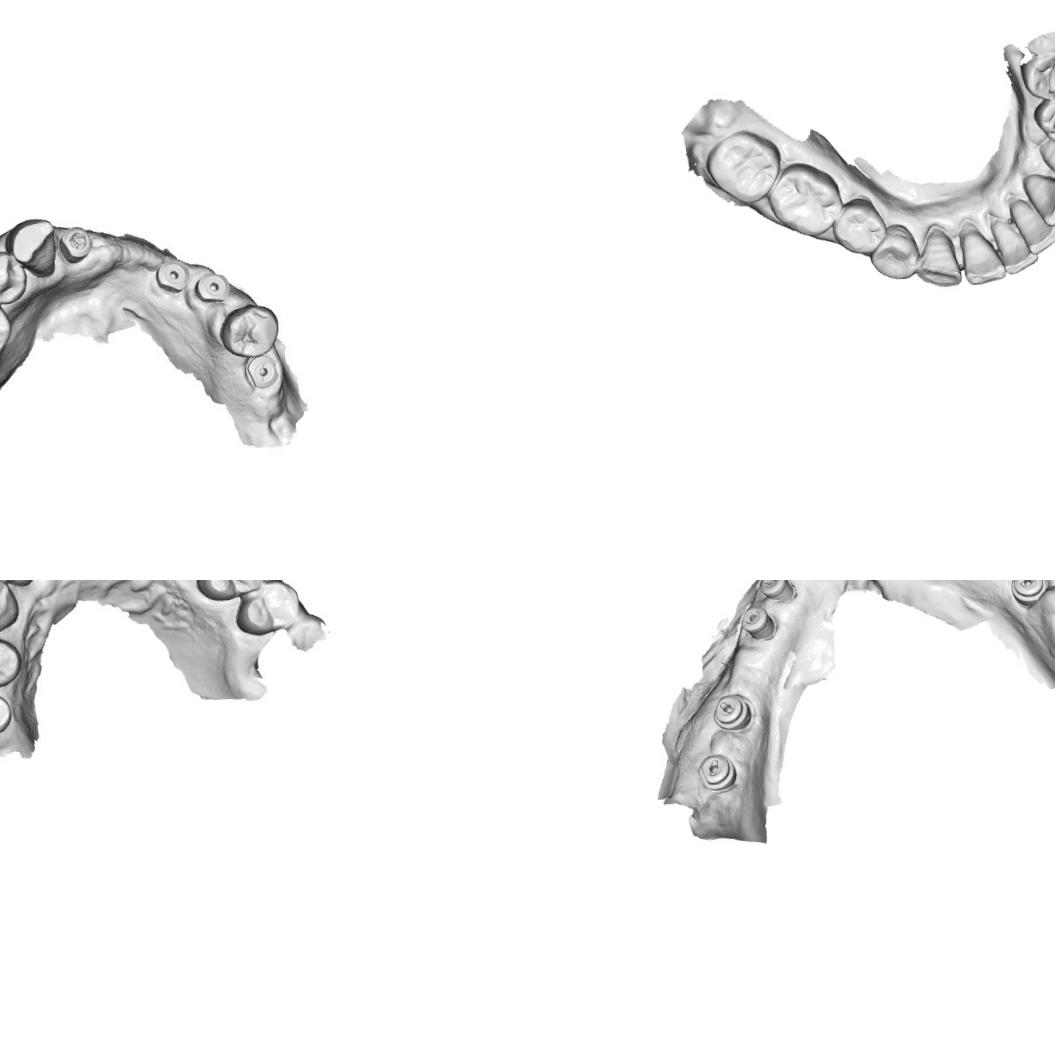canine: (4, 212, 61, 281), (910, 222, 967, 290), (0, 580, 24, 640), (1032, 133, 1055, 190)
implant: (154, 260, 190, 294), (61, 226, 92, 261), (196, 272, 229, 304)
implant_minus: (695, 750, 738, 794), (710, 691, 754, 734), (242, 350, 281, 390), (738, 602, 778, 641), (1007, 580, 1052, 610), (757, 580, 798, 604)
incisor: (989, 210, 1042, 274), (957, 224, 1006, 287), (1006, 195, 1055, 256), (1019, 169, 1055, 229)
molar: (699, 126, 784, 208), (764, 159, 845, 241)
premolar: (231, 580, 300, 638), (866, 218, 922, 288), (829, 194, 888, 260), (218, 300, 280, 360), (1018, 48, 1055, 104), (1028, 84, 1055, 149), (0, 247, 28, 306), (192, 580, 266, 600), (0, 632, 21, 692), (0, 684, 18, 744), (0, 291, 15, 359)
